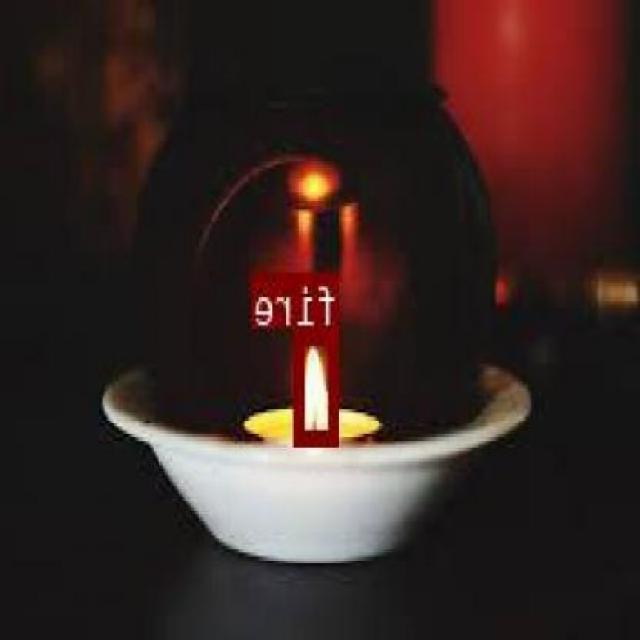fire: (296, 328, 341, 444)
